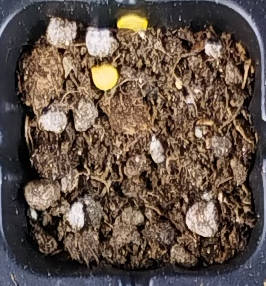pepper seed: (30, 17, 149, 108), (40, 0, 189, 30)
